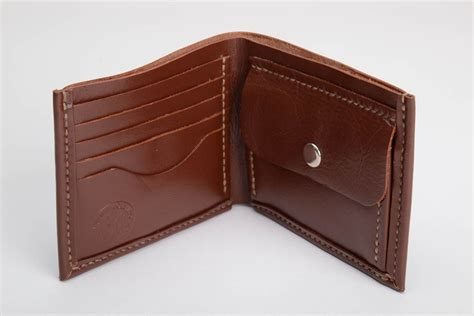cuero: (51, 31, 417, 296)
